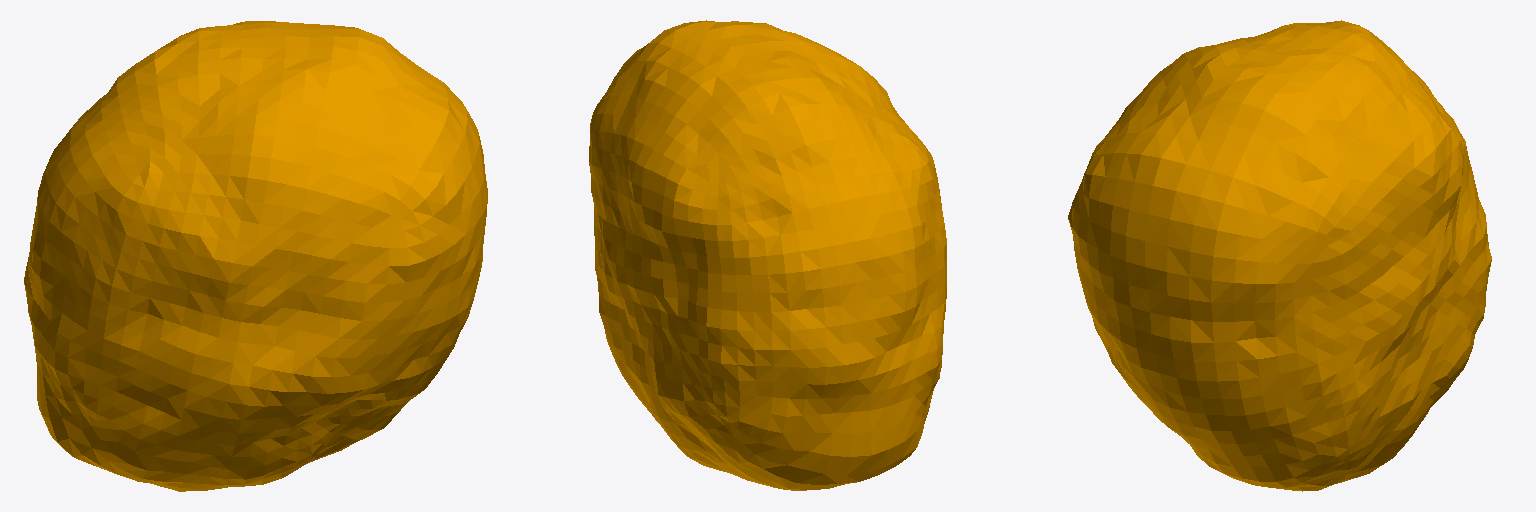
robot.urdf — rock:
<?xml version="1.0" ?>
<robot name="rock">
  <link name="rock">
    <inertial>
      <mass value="0.284"/>
      <origin rpy="0 0 0" xyz="0 0 0"/>
      <inertia ixx="0.000284" ixy="0" ixz="0" iyy="0.000284" iyz="0" izz="0.000284"/>
    </inertial>
    <collision name="rock_collision">
      <origin rpy="0 0 0" xyz="0 0 0"/>
      <geometry>
        <mesh filename="package://rocks/visual/190.dae" scale="1 1 1"/>
      </geometry>
    </collision>
    <visual name="rock_visual">
      <origin rpy="0 0 0" xyz="0 0 0"/>
      <geometry>
        <mesh filename="package://rocks/visual/190.dae" scale="1 1 1"/>
      </geometry>
    </visual>
  </link>
</robot>

--- What the picture shows (computed from the rendered views, not written in the file) ---
3 views of the same robot in one strip: view 1: azimuth 30°, elevation 25°; view 2: azimuth 150°, elevation 25°; view 3: azimuth 270°, elevation 25° (orthographic).
Robot: rock — 1 links, 0 joints (none); root link rock; default pose: every joint at zero.
Links seen in each view (by area): view 1: rock; view 2: rock; view 3: rock.
Boxes of the visible links, x1,y1,x2,y2 form: rock: (24,21,487,491); rock: (589,20,946,490); rock: (1068,20,1491,491).
Size in the robot's own frame: 0.086 by 0.081 by 0.0928 metres.
Meshes: 1 distinct files referenced, 1 mesh visuals loaded (1 Collada DAE).